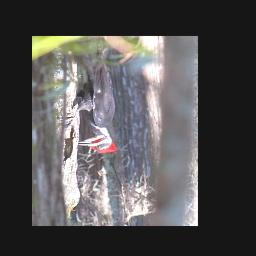Woodpecker: (57, 42, 119, 153)
